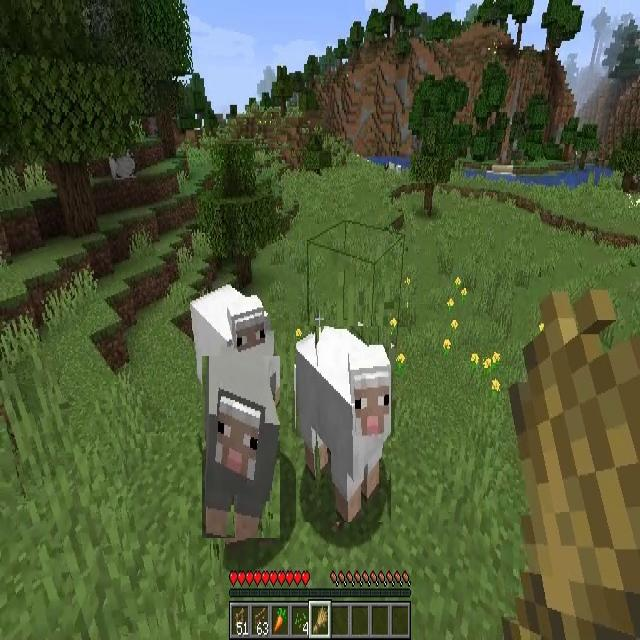flower: (491, 380, 501, 394), (397, 354, 404, 372), (460, 287, 468, 302), (484, 358, 491, 374), (383, 328, 392, 340), (491, 353, 500, 364), (444, 339, 451, 352), (471, 354, 479, 365), (450, 320, 458, 331), (447, 299, 453, 312), (456, 277, 460, 291)
sheep: (296, 326, 391, 522), (202, 356, 280, 538), (188, 288, 269, 348)
